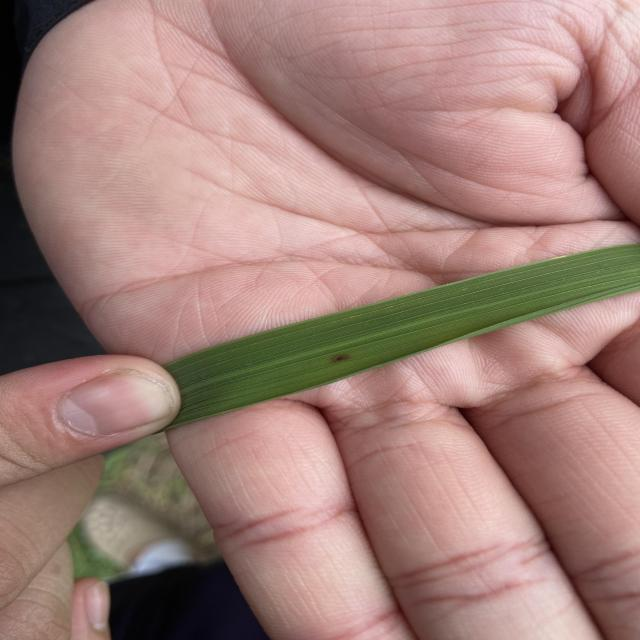Dao on: (332, 354, 349, 363)
